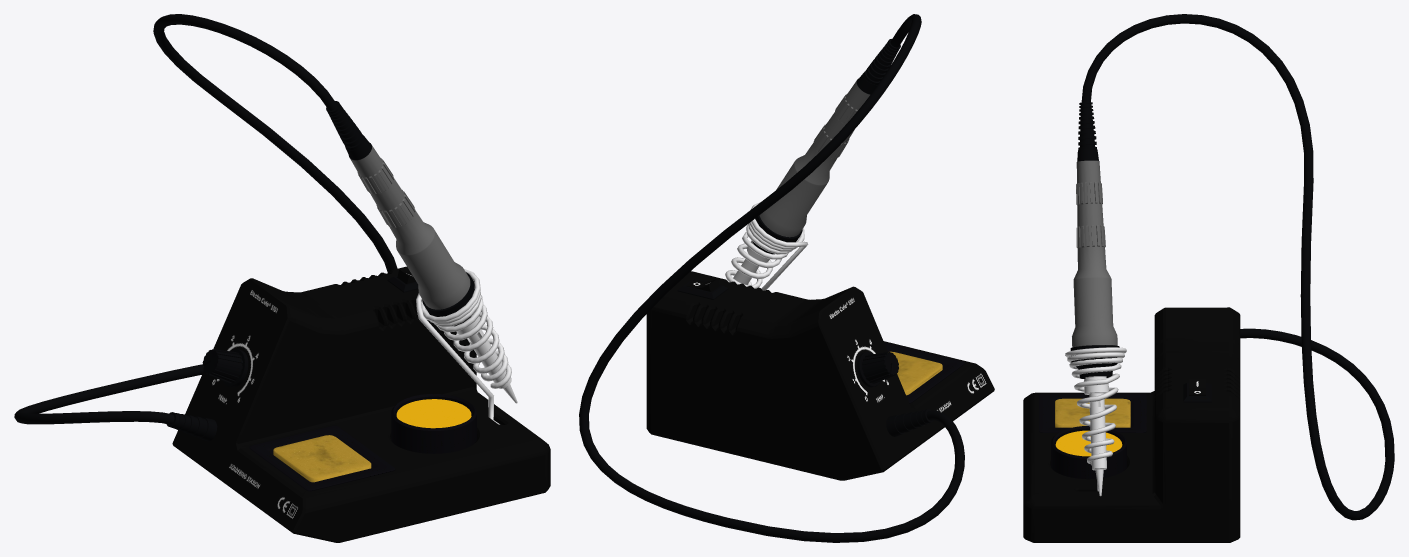
The model's file is soldering-station.glb.
The picture shows the model from 3 angles, left to right: view 1: azimuth 30°, elevation 25°; view 2: azimuth 150°, elevation 25°; view 3: azimuth 270°, elevation 25°; orthographic projection. The views are drawn at different scales.
Visible parts, largest first — view 1: Object_4, Object_6, Object_31, Object_8; view 2: Object_4, Object_6, Object_31; view 3: Object_4, Object_6, Object_31, Object_8.
Part boxes in pixels (x1,y1,x2,y2): Object_4: (172,266,550,542); Object_6: (14,14,517,491); Object_31: (273,435,371,482); Object_8: (396,399,471,428); Object_4: (646,271,994,480); Object_6: (579,14,964,542); Object_31: (890,351,942,395); Object_4: (1023,307,1240,542); Object_6: (1039,14,1394,520); Object_31: (1055,398,1130,427); Object_8: (1055,430,1122,456).
Size of the model in its own units: 0.209 by 0.2445 by 0.195.
5 materials, 5 textured.
